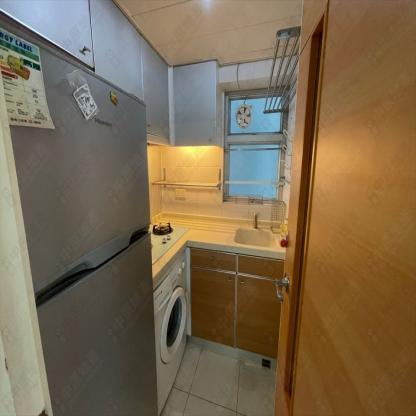Cupboard: (0, 0, 217, 147), (187, 248, 285, 358)
Exhaust Fan: (235, 104, 253, 128)
Faucet: (250, 210, 261, 228)
Fridge: (1, 13, 156, 415)
Sink: (233, 228, 271, 247)
Stove: (150, 221, 192, 267)
